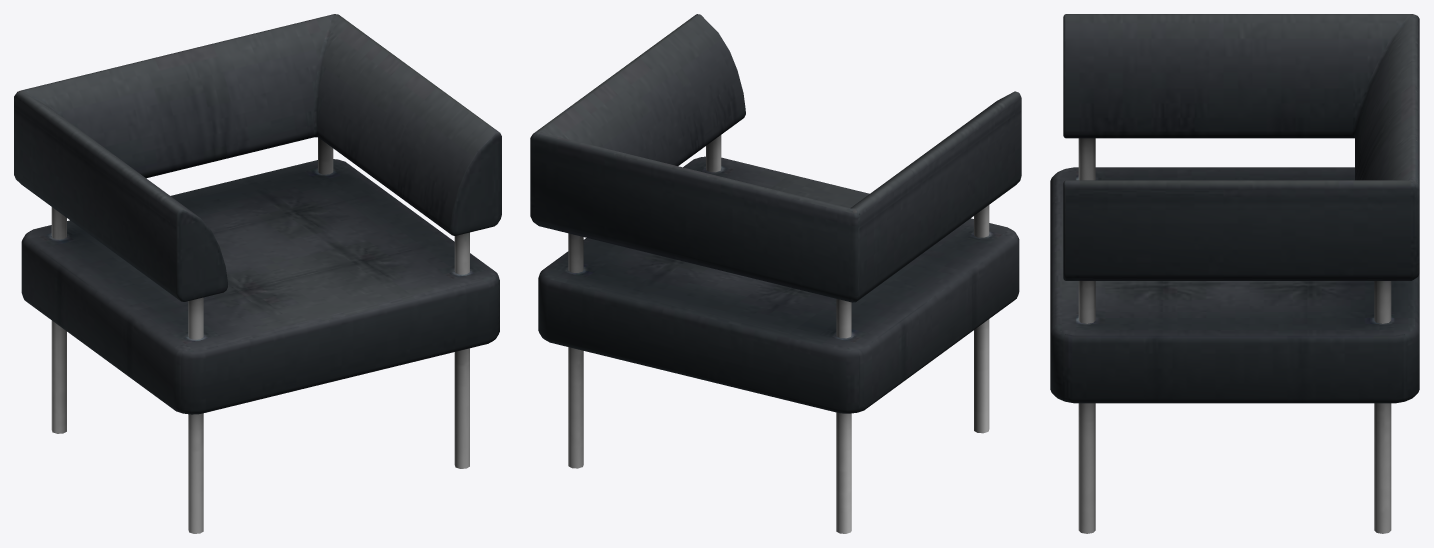
Rendered from ArmChair.gltf.
3 renders of one model, left to right at view 1: azimuth 30°, elevation 25°; view 2: azimuth 150°, elevation 25°; view 3: azimuth 270°, elevation 25°, orthographic. The views are drawn at different scales.
Visible parts, largest first — view 1: ArmChair; view 2: ArmChair; view 3: ArmChair.
Boxes of the visible parts, bbox=[...] form: ArmChair: bbox=[14, 14, 501, 533]; ArmChair: bbox=[530, 14, 1021, 533]; ArmChair: bbox=[1050, 14, 1419, 533].
Size of the model in its own units: 7.37 by 7.24 by 6.7.
1 material, 1 textured.
